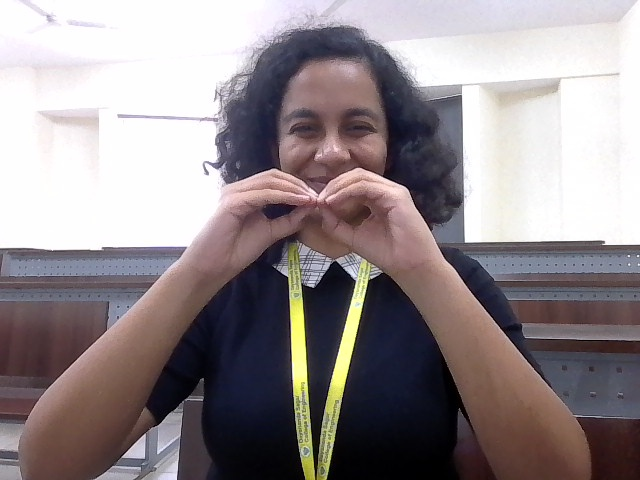B: (152, 148, 504, 356)
